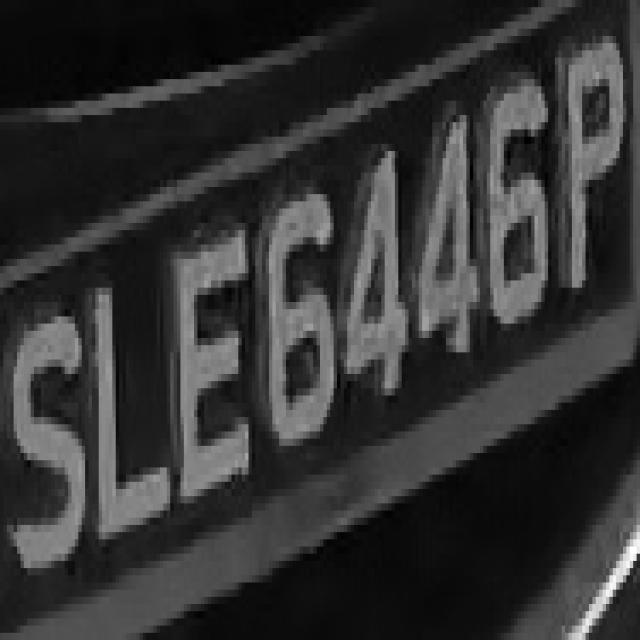4: (327, 151, 412, 417), (412, 108, 473, 410)
6: (252, 180, 347, 474), (476, 72, 562, 345)
E: (160, 223, 266, 518)
L: (82, 244, 177, 546)
P: (555, 36, 633, 331)
S: (4, 288, 96, 590)
